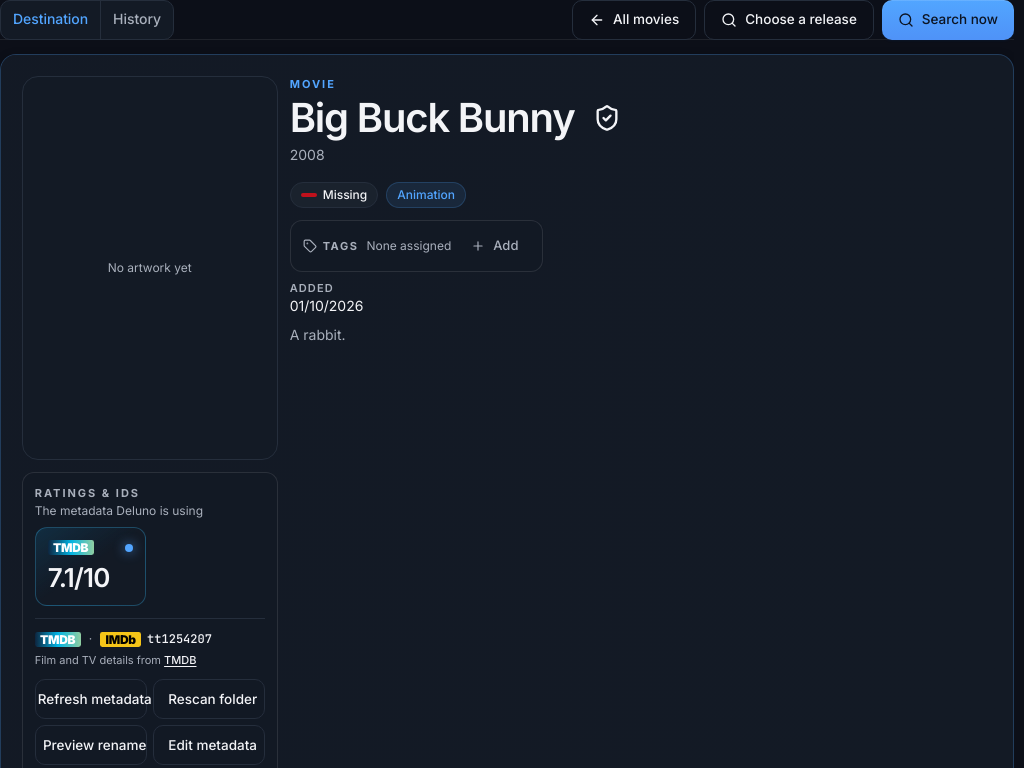
Test case: searching a film: the buttons, the Next step card and the candidate list (search-grab low rows) › a candidate's cells read in plain words: protocol, age, seeders and leechers, grabs and size
Expected: the heading "Big Buck Bunny" is shown, [290,96,574,139]
Click the button "Choose a release". click: (789, 20)
box: [704,0,874,40]
(page scrolled)
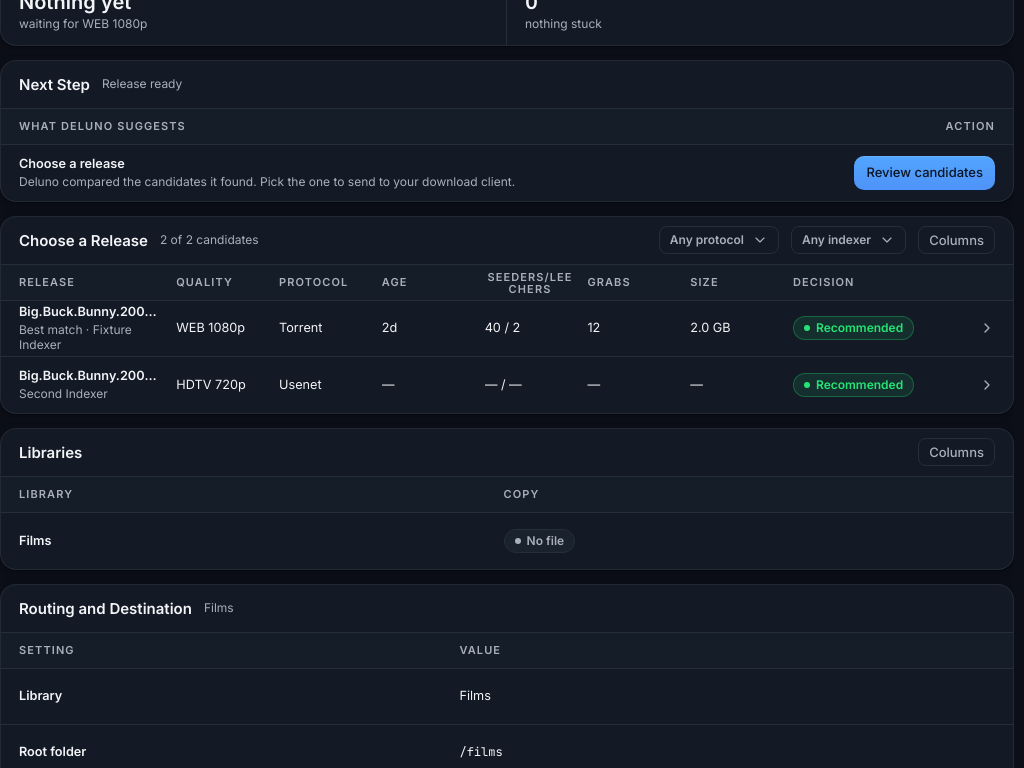
Now the row that starts with "Big.Buck.Bunny.2008.1080p.WEB-DL-GRP" shows "Torrent", box [279,320,322,335]
Now the row that starts with "Big.Buck.Bunny.2008.1080p.WEB-DL-GRP" shows "2d", box [382,320,397,335]
Now the row that starts with "Big.Buck.Bunny.2008.1080p.WEB-DL-GRP" shows "12", box [587,320,600,335]
